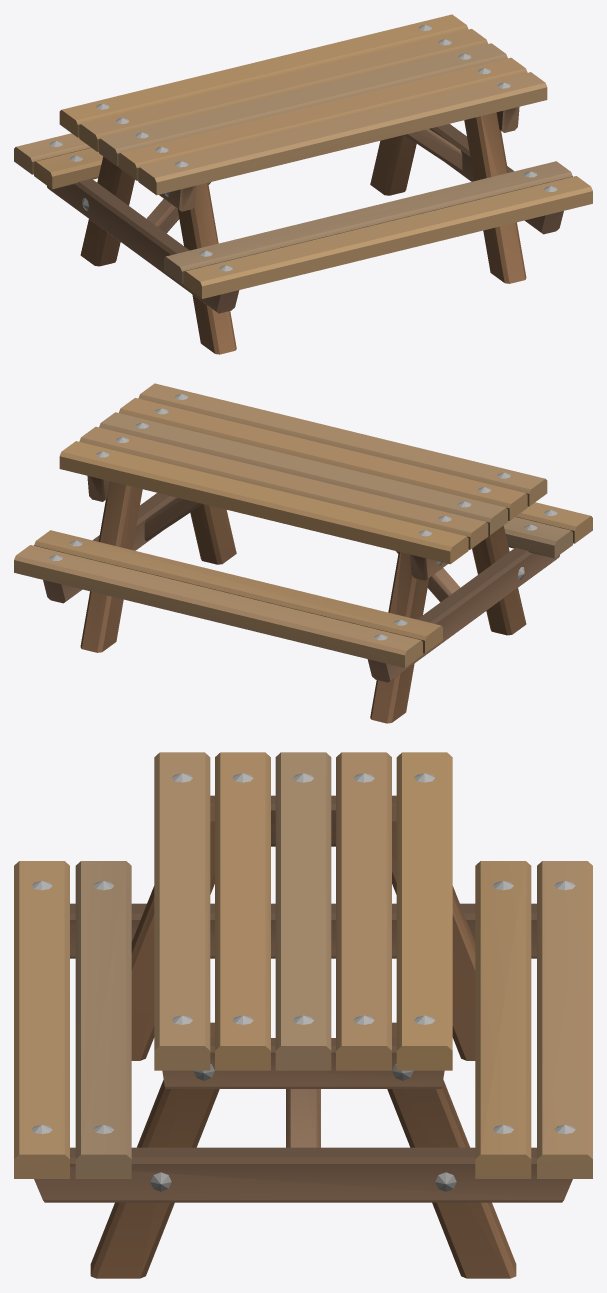
File: table.glb
3 views of the same model, one above another, from view 1: azimuth 30°, elevation 25°; view 2: azimuth 150°, elevation 25°; view 3: azimuth 270°, elevation 25° (orthographic). The views are drawn at different scales.
Parts seen in each view (by area): view 1: table.001; view 2: table.001; view 3: table.001.
Boxes of the visible parts, x1=… form: table.001: x1=14, y1=14, x2=592, y2=354; table.001: x1=14, y1=383, x2=592, y2=723; table.001: x1=14, y1=752, x2=592, y2=1278.
Bounding box in the file's own units: 2.16 × 0.9168 × 1.8.
